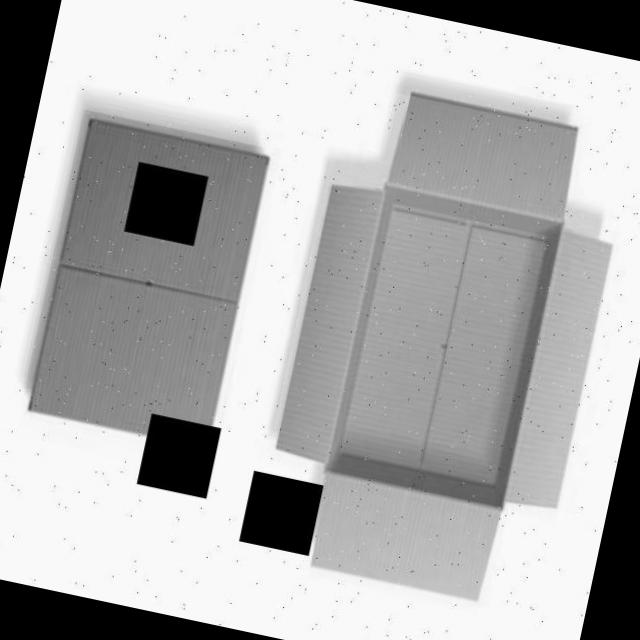box: (246, 81, 640, 620), (18, 109, 281, 456)
